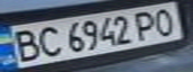2: (112, 12, 136, 45)
4: (96, 14, 121, 47)
6: (63, 19, 87, 53)
9: (81, 17, 103, 52)
B: (3, 26, 45, 62)
C: (33, 24, 63, 58)
O: (148, 6, 181, 37)
P: (130, 8, 163, 41)
